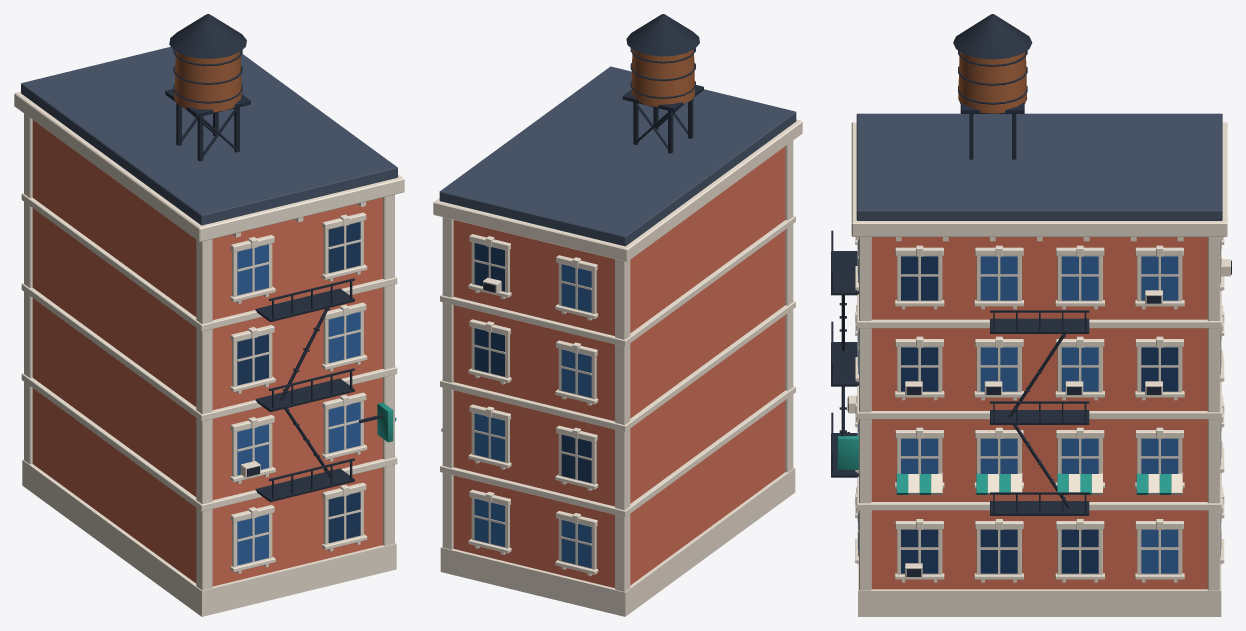
The model's file is edificio_0.glb.
3 views of the same model, side by side, from view 1: azimuth 30°, elevation 25°; view 2: azimuth 150°, elevation 25°; view 3: azimuth 270°, elevation 25° (orthographic). The views are drawn at different scales.
Parts seen in each view (by area): view 1: Edificio_0_Terracota; view 2: Edificio_0_Terracota; view 3: Edificio_0_Terracota.
Part boxes in pixels (x1=…): Edificio_0_Terracota: x1=14, y1=14, x2=404, y2=616; Edificio_0_Terracota: x1=433, y1=14, x2=802, y2=616; Edificio_0_Terracota: x1=831, y1=14, x2=1231, y2=616.
Bounding box in the file's own units: 9.99 × 22.91 × 15.36.
